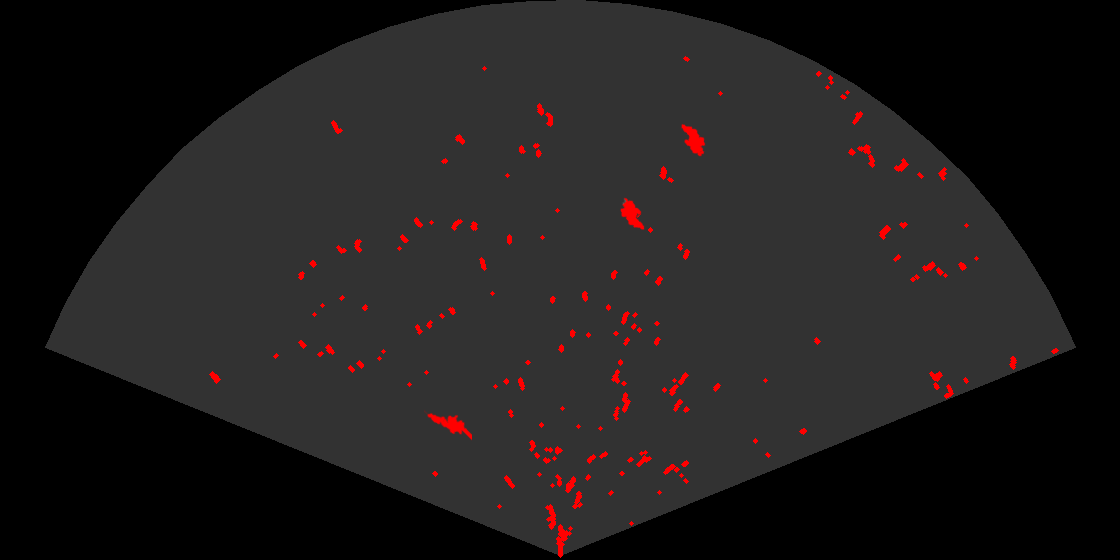AUV: (679, 122, 707, 158), (619, 196, 646, 232)
frogman: (424, 408, 472, 442)
